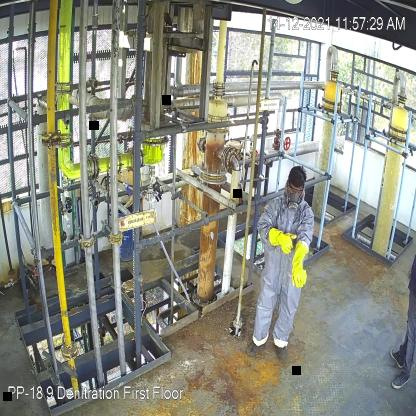goggles: (288, 184, 304, 194)
mask: (287, 191, 302, 212)
